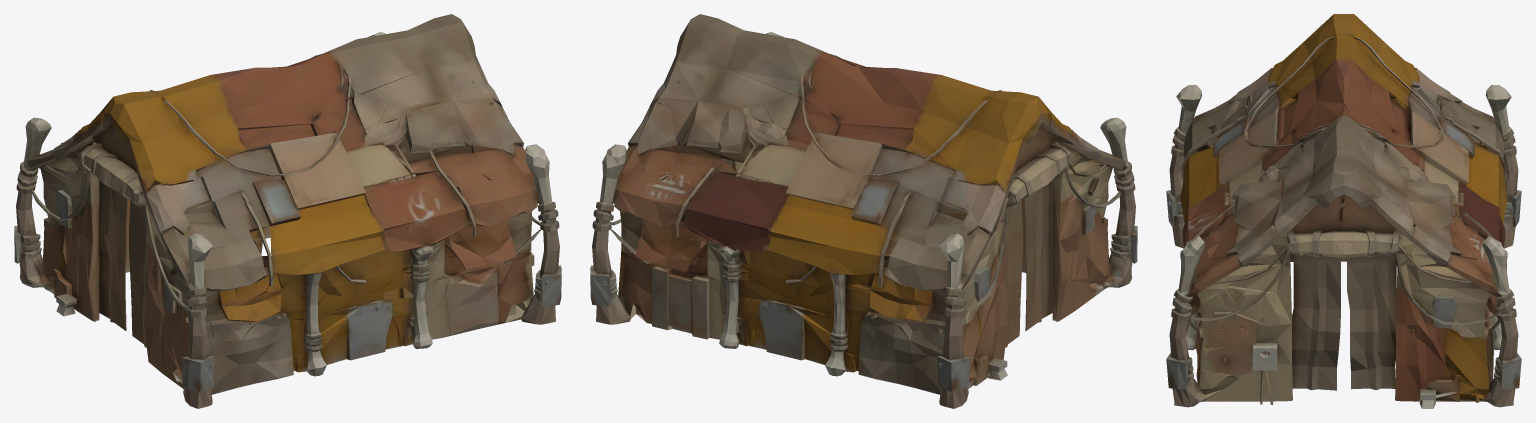
File: deserttent.glb
3 views of the same model, side by side, from view 1: azimuth 30°, elevation 25°; view 2: azimuth 150°, elevation 25°; view 3: azimuth 270°, elevation 25° (orthographic). The views are drawn at different scales.
Parts seen in each view (by area): view 1: tripo_node_06ed5458-d7dc-41a7-960f-ec9df9f385c2; view 2: tripo_node_06ed5458-d7dc-41a7-960f-ec9df9f385c2; view 3: tripo_node_06ed5458-d7dc-41a7-960f-ec9df9f385c2.
Part boxes in pixels (box(x1,y1,x2,y2)): tripo_node_06ed5458-d7dc-41a7-960f-ec9df9f385c2: box(14, 14, 561, 408); tripo_node_06ed5458-d7dc-41a7-960f-ec9df9f385c2: box(590, 14, 1137, 408); tripo_node_06ed5458-d7dc-41a7-960f-ec9df9f385c2: box(1166, 14, 1521, 408).
Size of the model in its own units: 4.89 by 3 by 4.17.
Materials: 1 (1 with a texture image).
